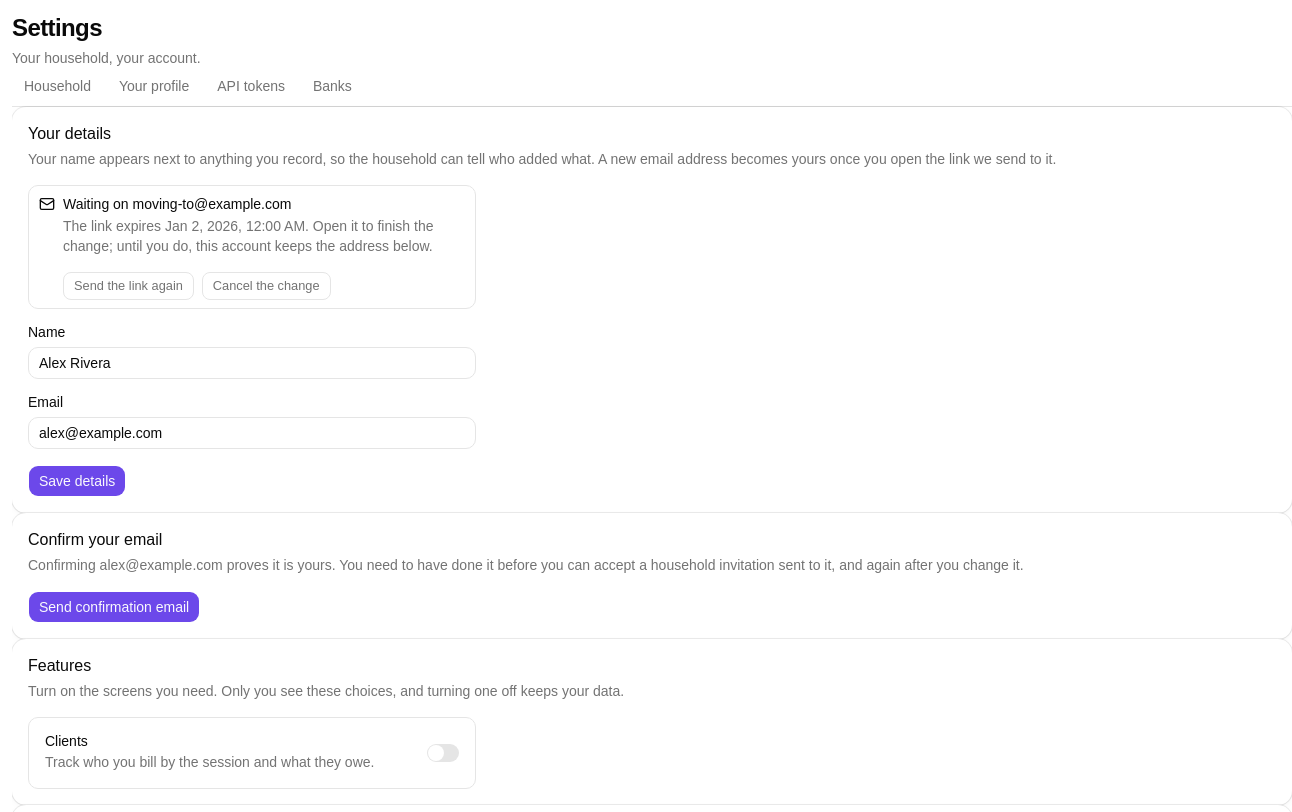
a pending change of address › drops the notice once a confirmation is asked for
Click the button "Send confirmation email" at (114,607), box [28, 591, 200, 623]
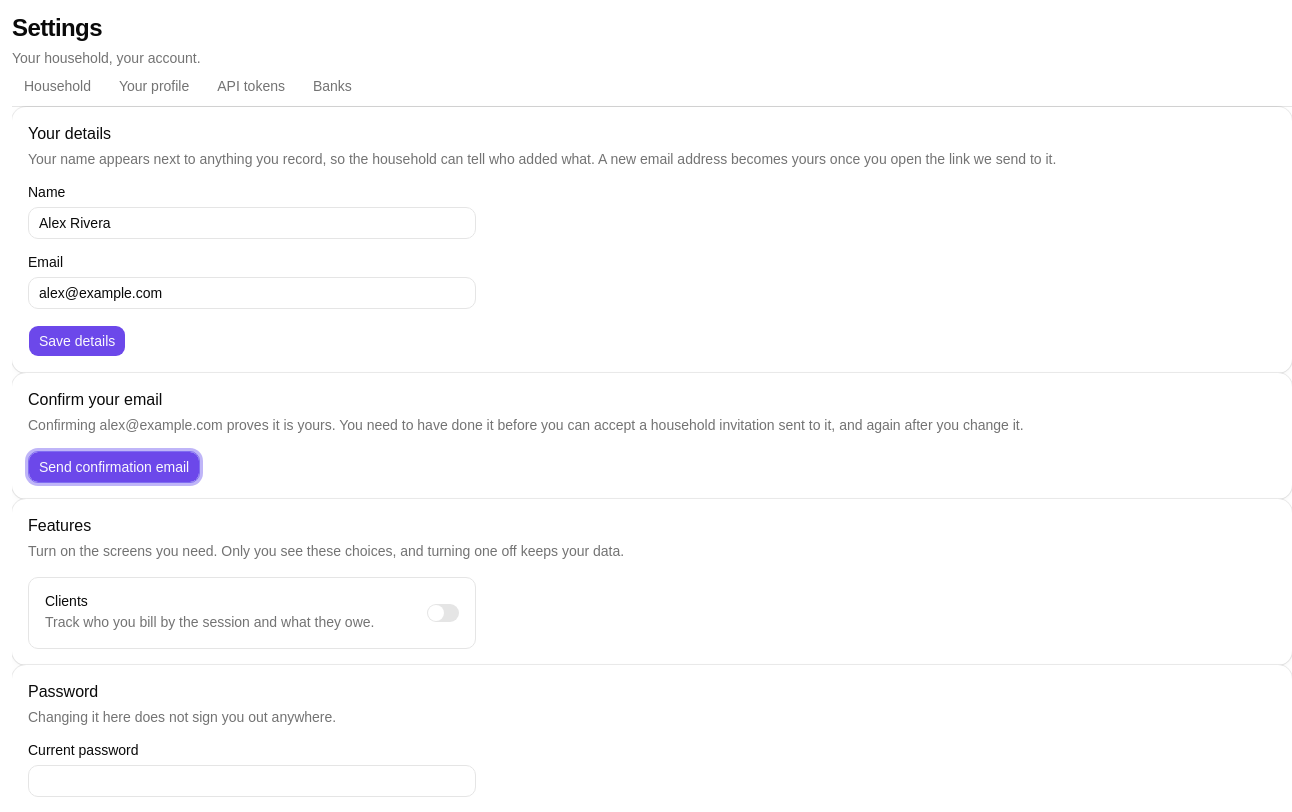
Expected: the message is gone
